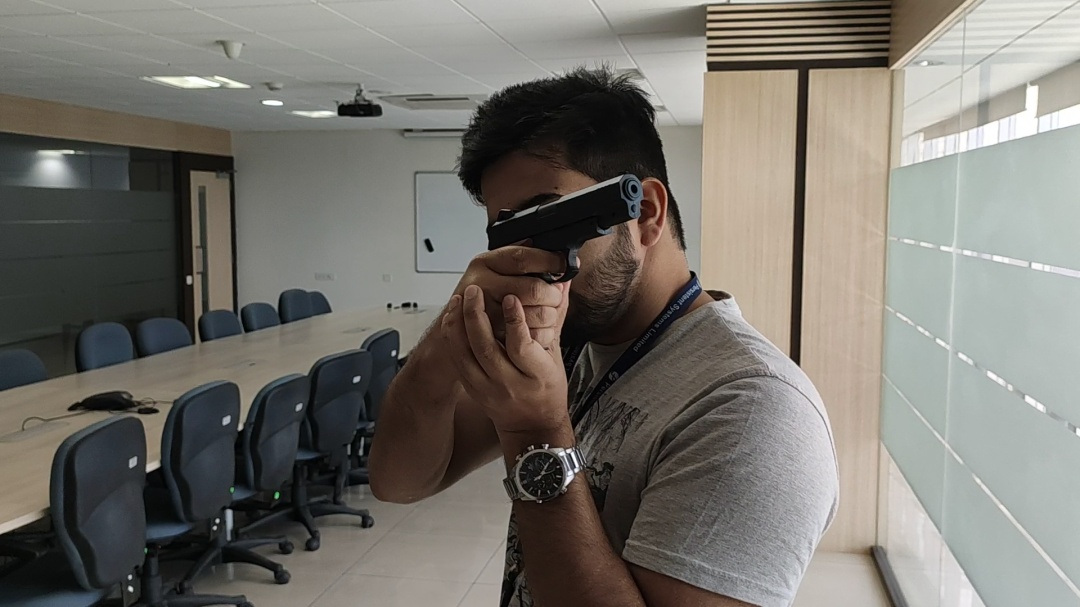gun: (338, 117, 893, 606)
